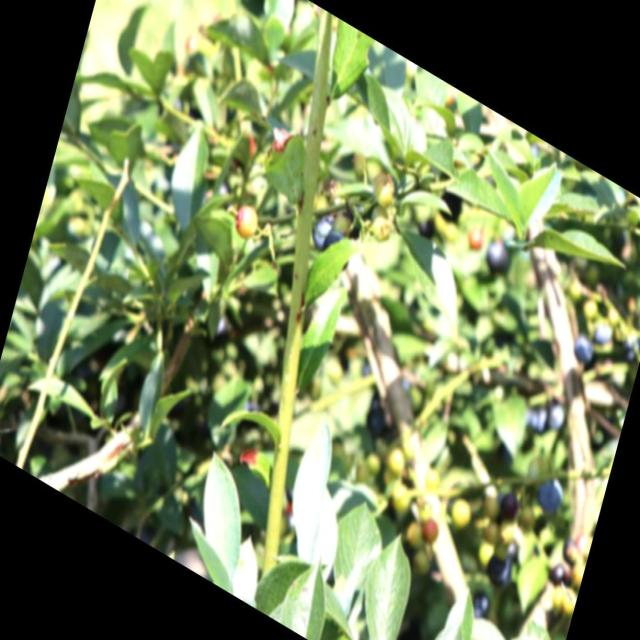blueberry: (315, 221, 356, 277), (483, 230, 516, 282), (534, 469, 566, 522), (303, 202, 336, 252), (483, 544, 515, 592), (464, 580, 495, 624), (494, 486, 522, 529), (570, 332, 599, 368)
blueberry-halfripe: (229, 198, 264, 246)
blueberry-unripe: (366, 166, 400, 214), (365, 209, 400, 255)
